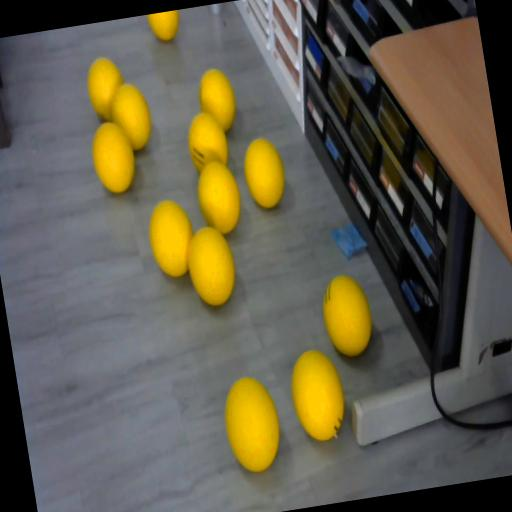FUEL: (217, 370, 285, 474), (284, 344, 351, 444), (180, 220, 240, 308), (317, 270, 376, 359), (144, 196, 198, 280), (192, 156, 246, 236), (86, 118, 138, 196), (238, 134, 290, 210), (194, 65, 240, 134), (82, 54, 128, 123), (146, 10, 182, 44)
